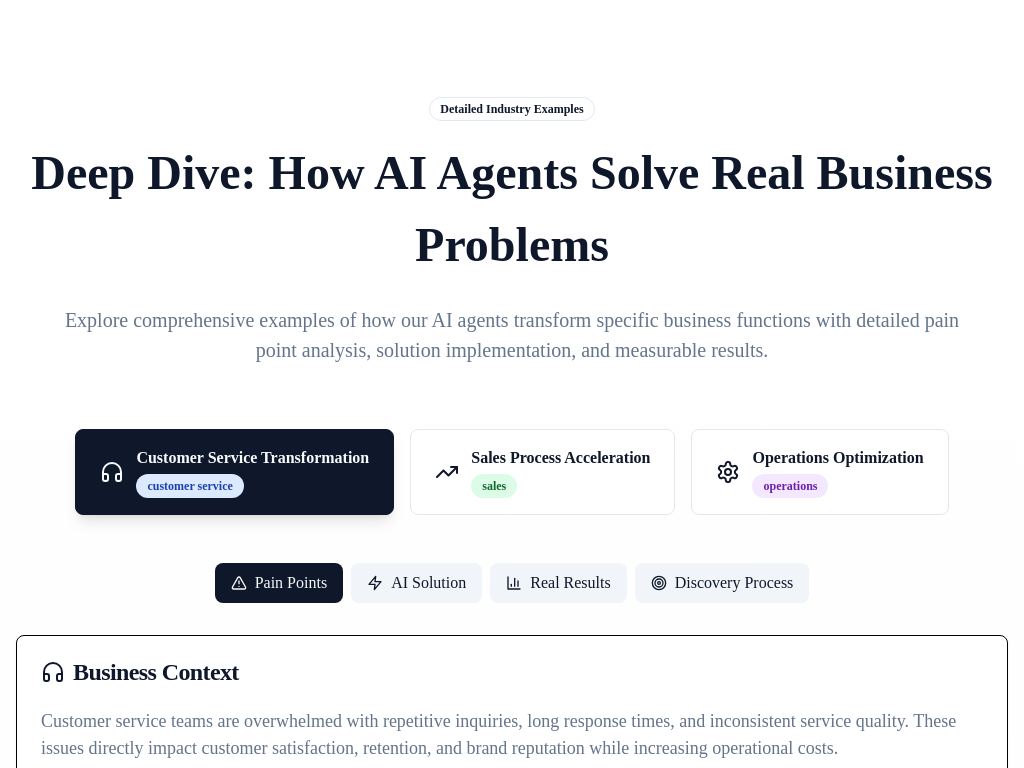
Test case: DetailedIndustryExamples › shows discovery process when on discovery tab
Note: Click on Discovery Process tab
Click the button "Discovery Process" at (722, 583), box 635,563 -> 809,603
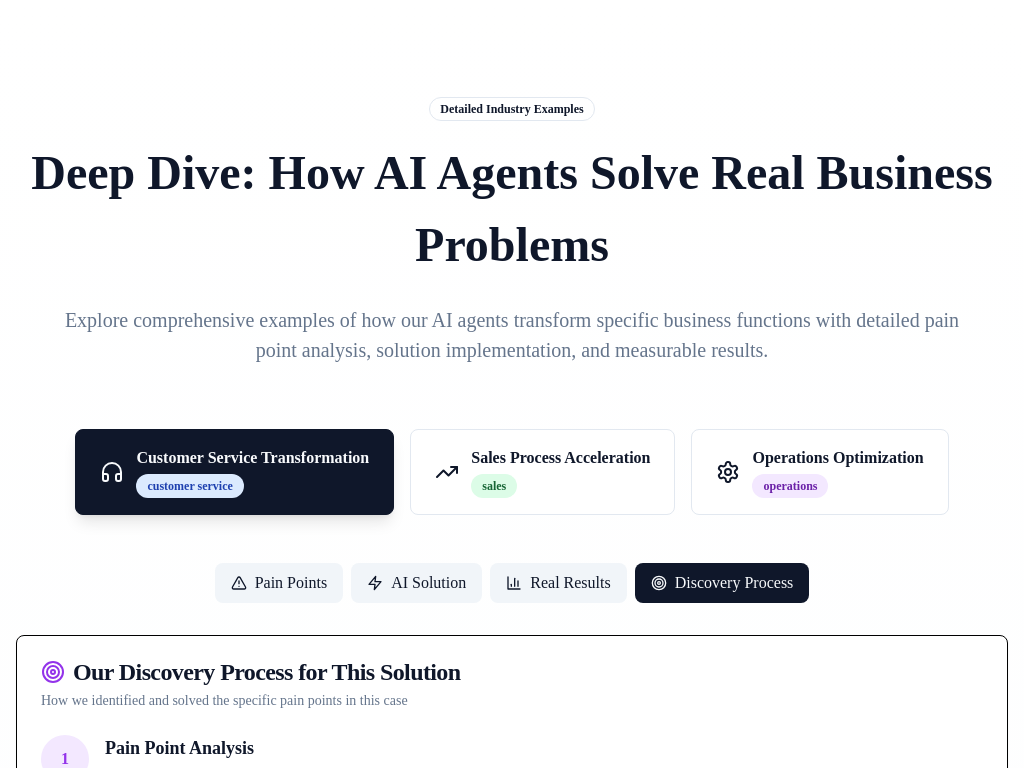
Result: the text "Our Discovery Process for This Solution" is shown at 41,659 -> 460,685
Result: the heading "Pain Point Analysis" is shown at 105,738 -> 254,758
